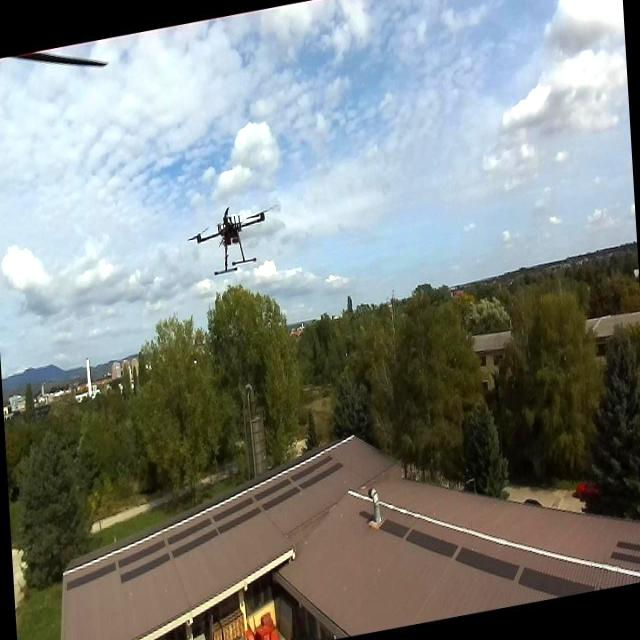drone: (187, 199, 270, 283)
